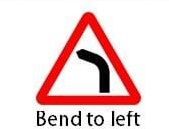Traffic signal: (36, 10, 143, 107)
